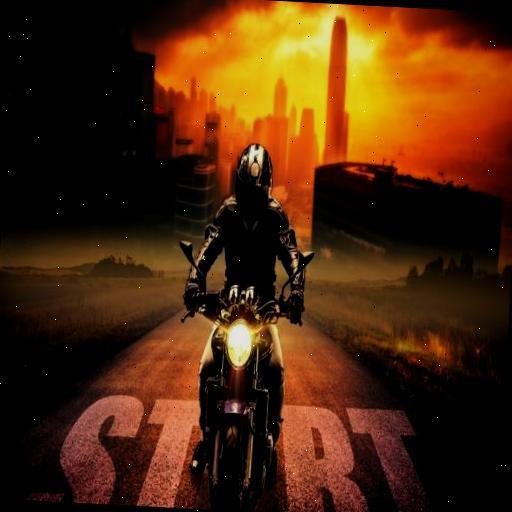helmet: (165, 123, 322, 500)
